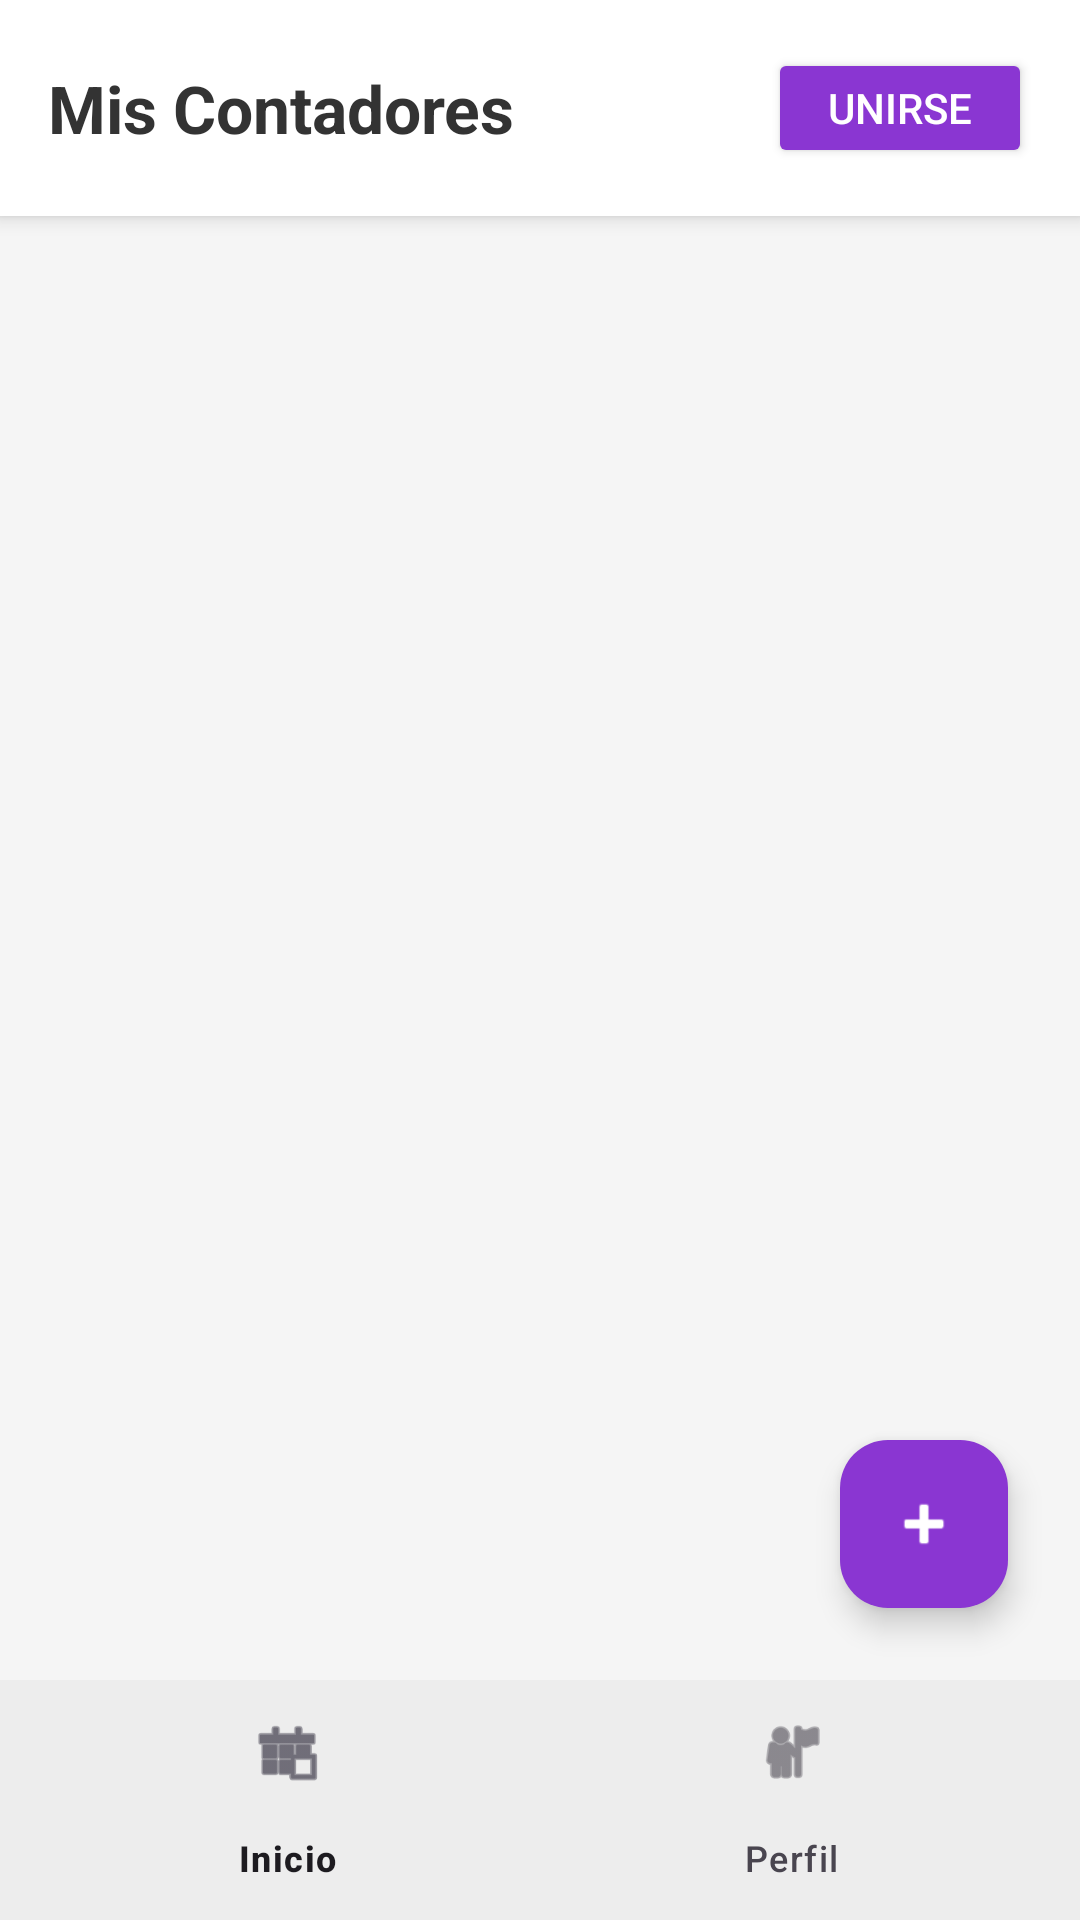

Named icons in this screenshot (1080×1920) and their bounding boxes, (x1, y1, x2, y2):
Crear Contador: (840, 1440, 1008, 1608)
